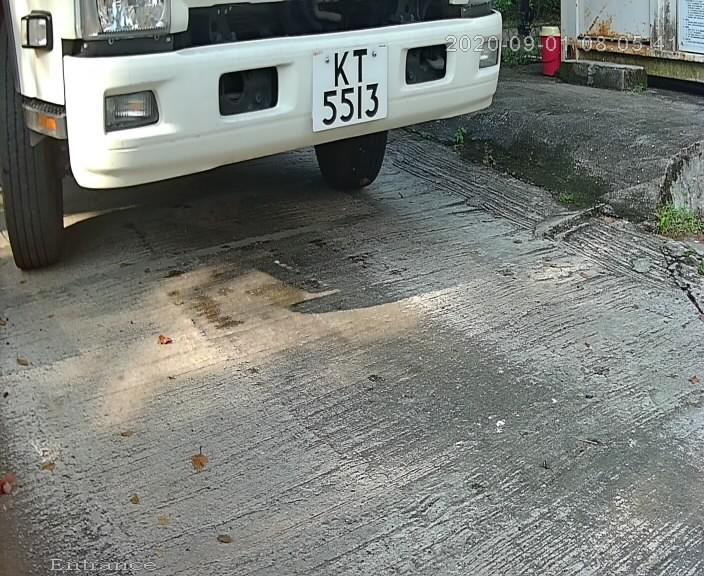License Plate: (280, 34, 406, 147)
